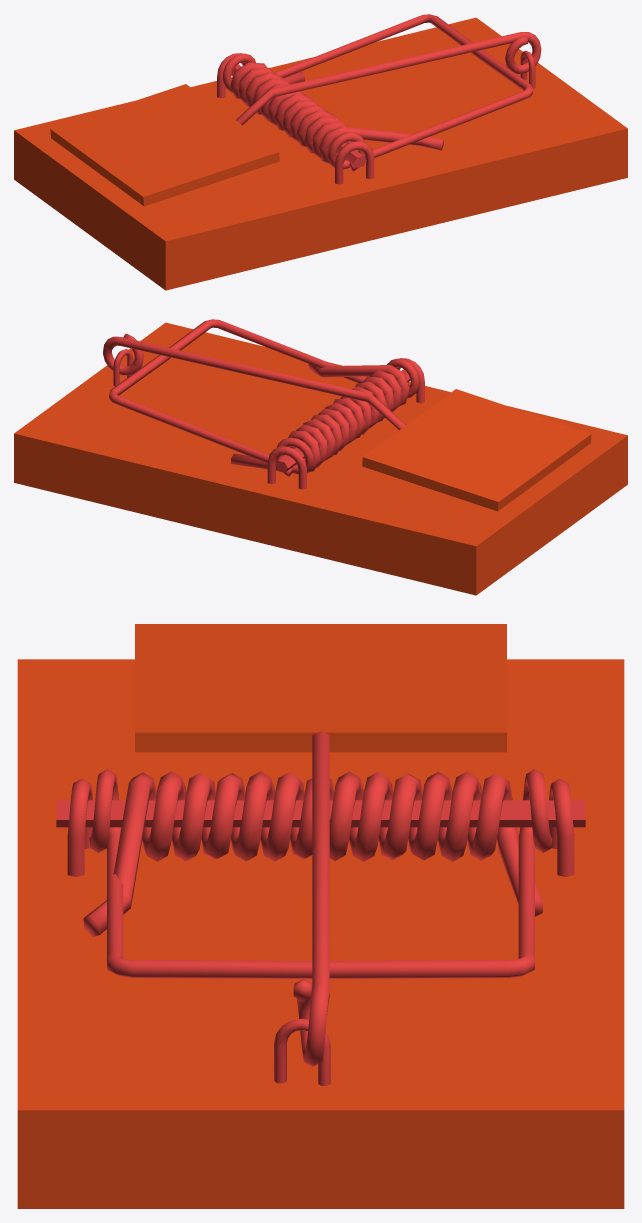
Rendered from mousetrap.fbx.
3 views of the same model, one above another, from view 1: azimuth 30°, elevation 25°; view 2: azimuth 150°, elevation 25°; view 3: azimuth 270°, elevation 25° (orthographic). The views are drawn at different scales.
Visible parts, largest first — view 1: Board, Cheese trigger, Spring, Killer, Pin, Nail.001; view 2: Board, Cheese trigger, Spring, Killer, Pin, Nail.001; view 3: Board, Cheese trigger, Spring, Killer, Pin, Cylinder, Nail.001, Nail.
Part boxes in pixels (x1,y1,x2,y2): Board: (14,17,627,290); Cheese trigger: (50,84,279,206); Spring: (230,62,443,164); Killer: (223,14,533,171); Pin: (236,32,541,125); Nail.001: (217,53,374,184); Board: (14,322,627,595); Cheese trigger: (362,389,591,511); Spring: (231,364,409,473); Killer: (108,319,418,476); Pin: (103,333,405,430); Nail.001: (267,358,424,489); Board: (17,659,624,1208); Cheese trigger: (135,624,506,752); Spring: (83,771,542,936); Killer: (89,769,552,978); Pin: (293,731,329,1066); Cylinder: (56,800,585,827); Nail.001: (67,778,574,876); Nail: (274,1018,330,1085).
Bounding box in the file's own units: 352 × 74.21 × 200.
